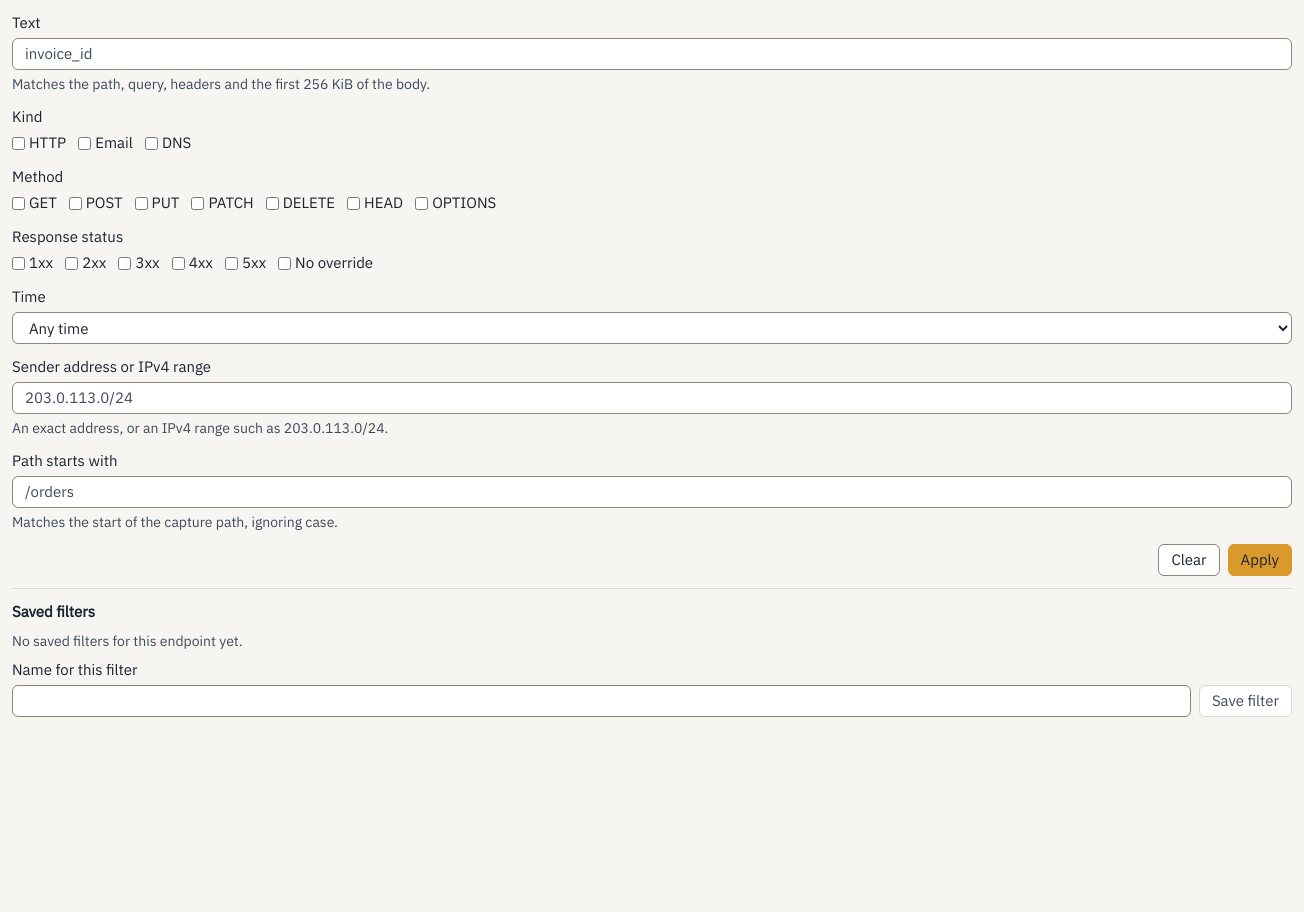
Test: BuilderForm › shows the sender error and applies nothing for a range wider than 32 bits
Step 1. Type "203.0.113.0/40" into the field labelled "Sender address or IPv4 range" → (652, 398), box [12,382,1292,414]
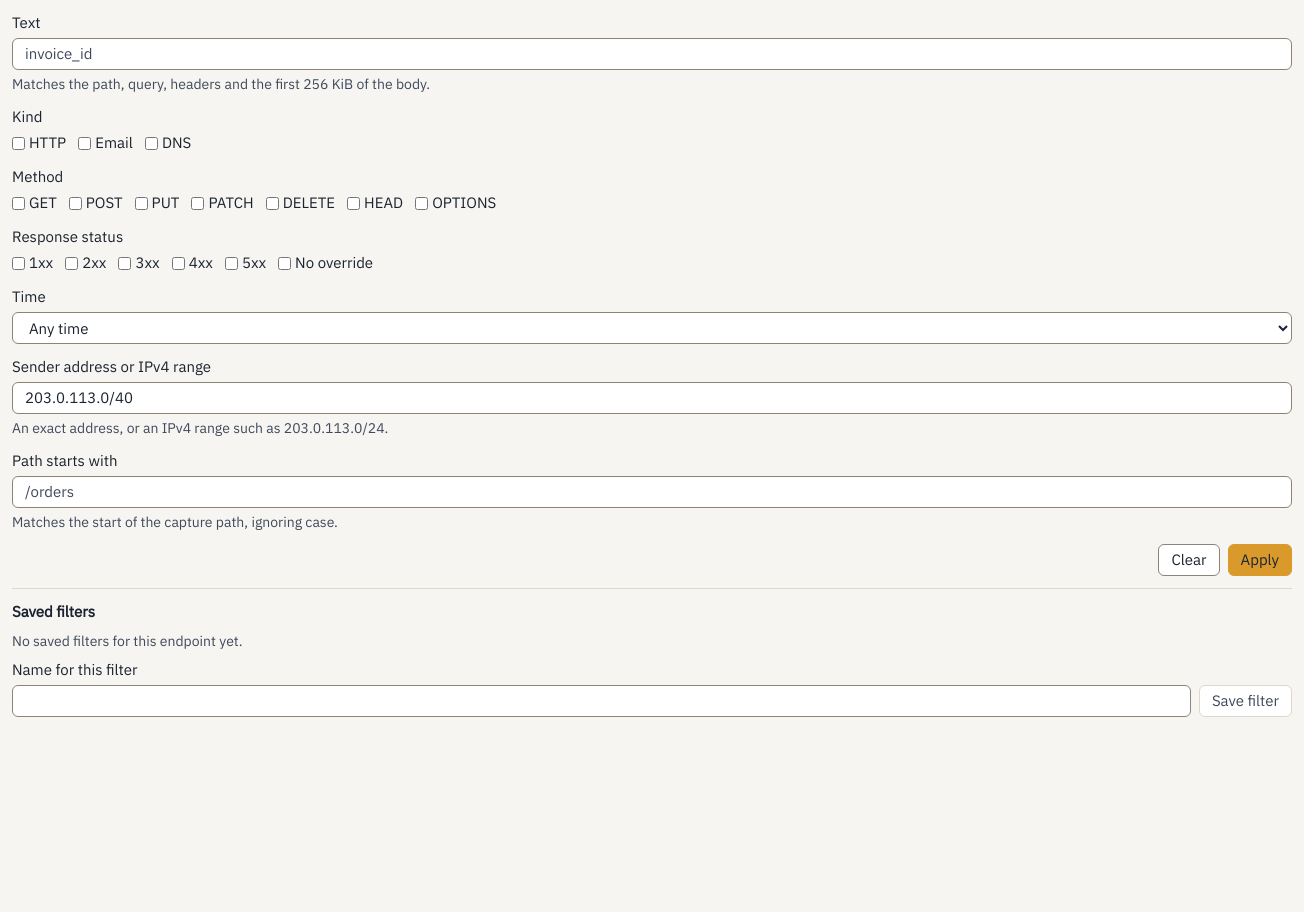
Step 2. Click the button "Apply" → (1260, 560), box [1228,544,1292,576]
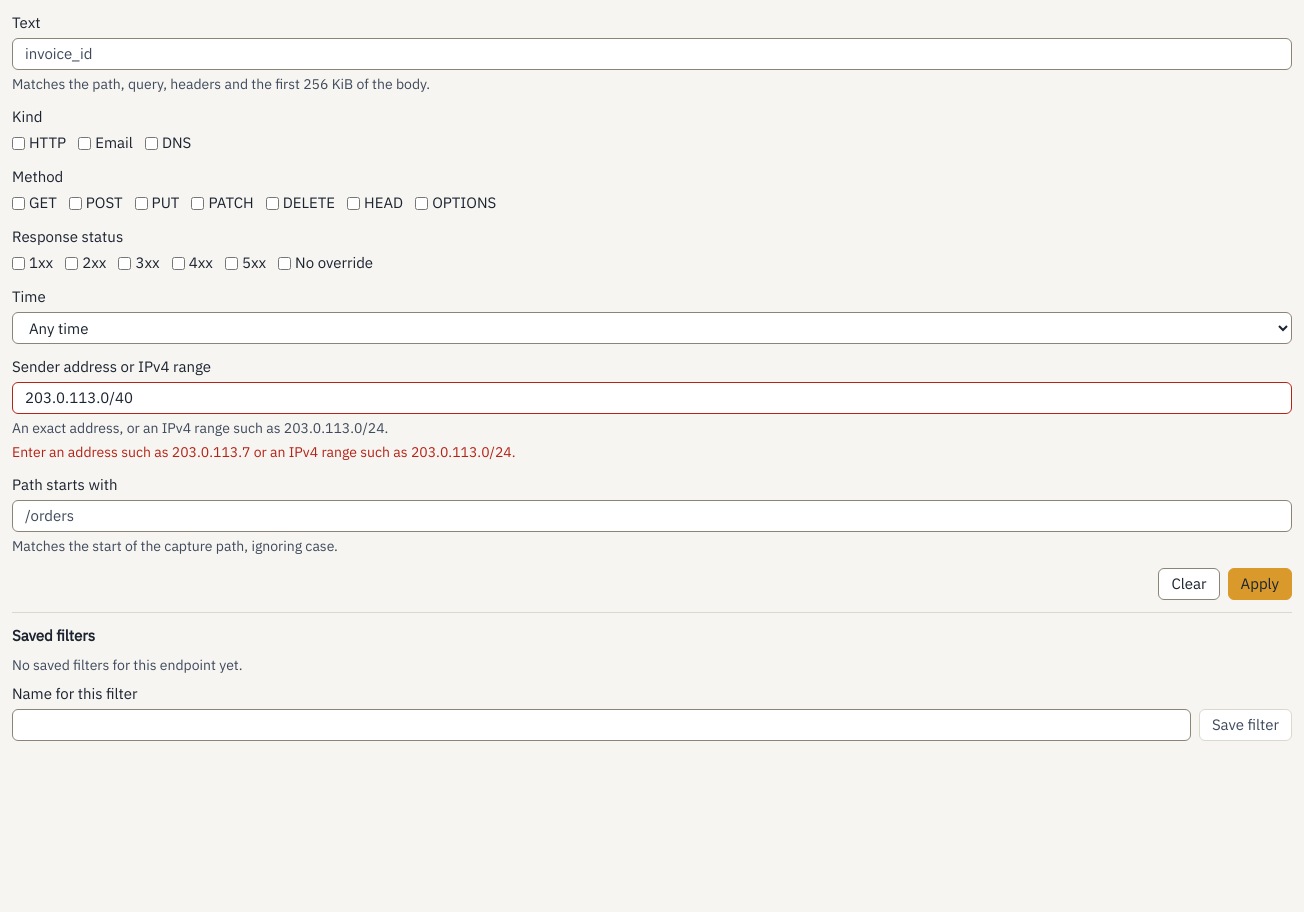
Expected: the message shows "Enter an address such as 203.0.113.7", [12,443,516,461]
